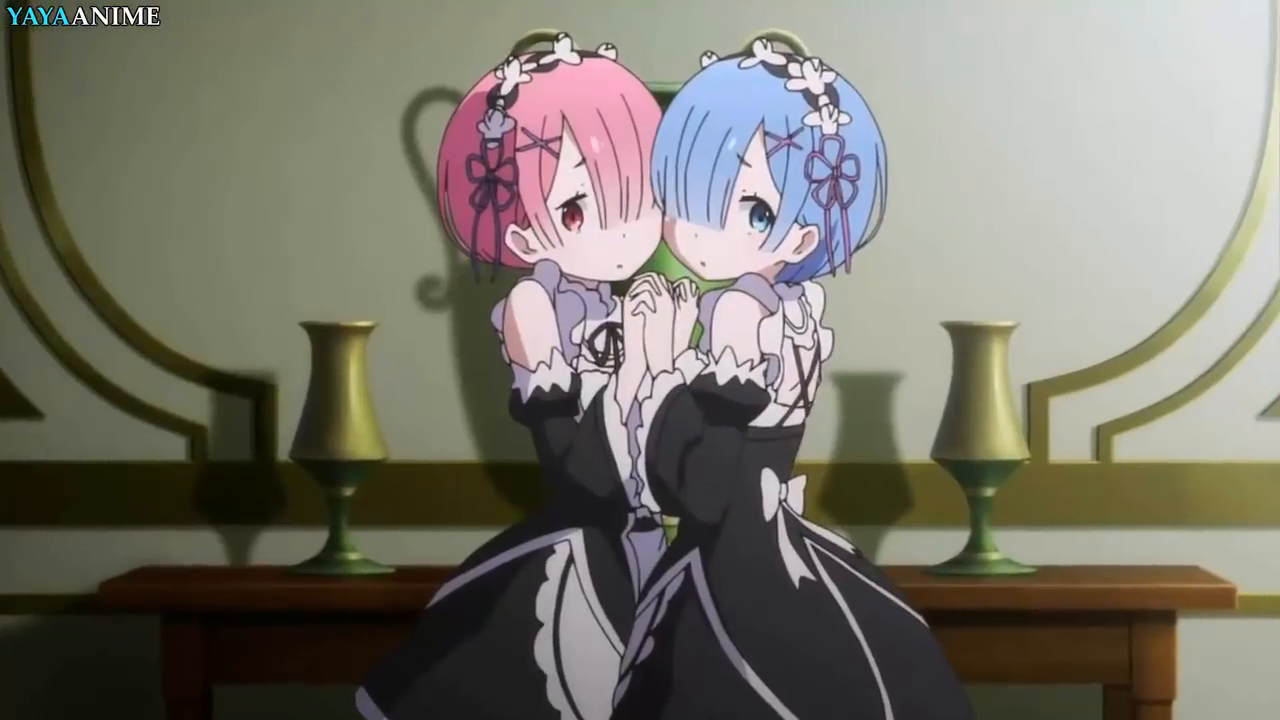REM: (649, 49, 900, 293)
